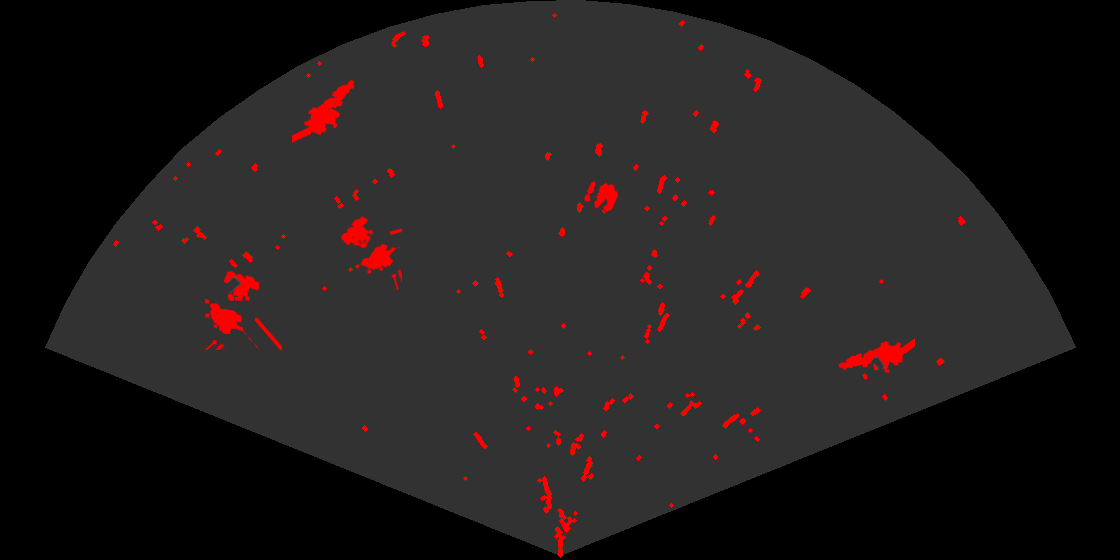ball: (583, 180, 620, 214)
cage: (203, 269, 282, 350), (339, 214, 402, 290)
frogman: (292, 78, 356, 144), (837, 337, 915, 375)
